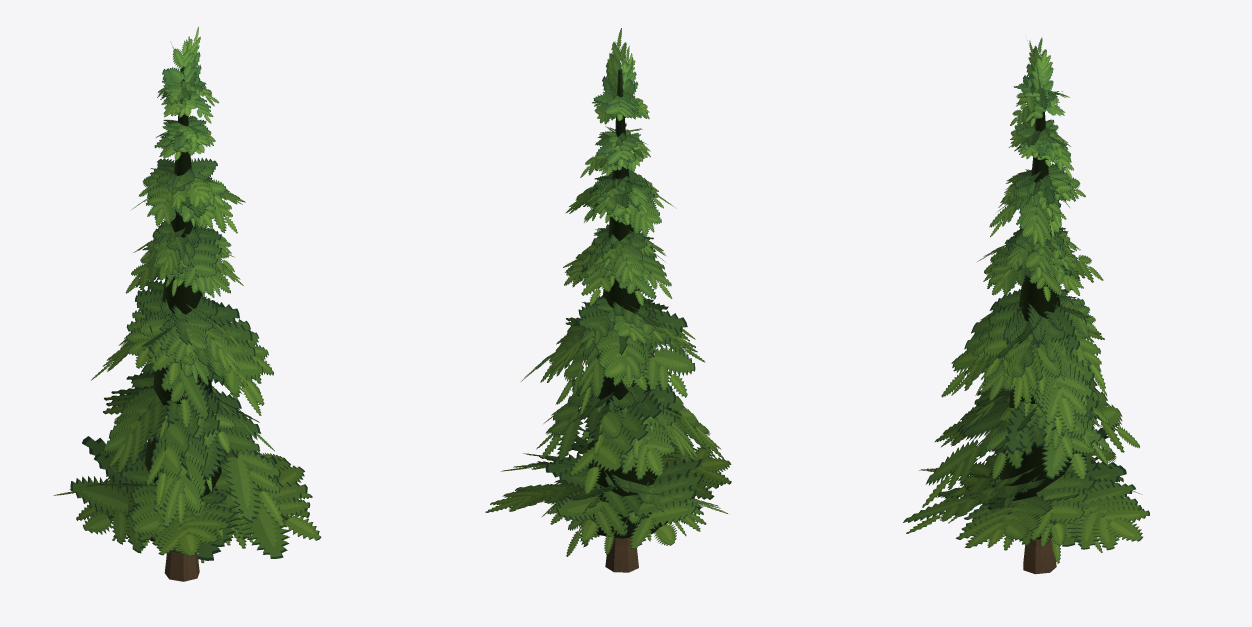
Rendered from fir4_c.glb.
3 views of the same model, side by side, from view 1: azimuth 30°, elevation 25°; view 2: azimuth 150°, elevation 25°; view 3: azimuth 270°, elevation 25° (orthographic). The views are drawn at different scales.
Visible parts, largest first — view 1: fir4_c; view 2: fir4_c; view 3: fir4_c.
Boxes of the visible parts, left/top/right/bottom form: fir4_c: left=53, top=26, right=321, bottom=581; fir4_c: left=485, top=28, right=731, bottom=572; fir4_c: left=903, top=37, right=1149, bottom=574.
Bounding box in the file's own units: 3.65 × 6.21 × 4.08.
2 materials, 2 textured.
